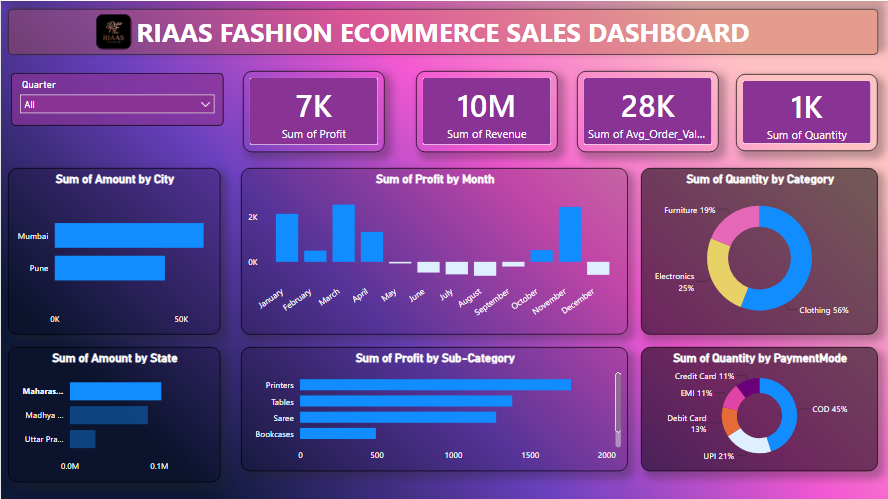

The page's visual inventory and layout, read from the dashboard file:
{"tool":"powerbi","page":{"name":"Page 1","canvas":[1280,720],"ordinal":0},"visuals":[{"type":"textbox","box":[10.1,11.5,1252.8,66.2],"z":0},{"type":"cardVisual","fields":{"Data":["Sum(Details.Quantity)"]},"box":[1058.8,104.4,204.5,110.9],"z":0,"group":"g1"},{"type":"cardVisual","fields":{"Data":["Sum(Details.Profit)"]},"box":[348.5,100.8,204.5,116.6],"z":1000,"group":"g1"},{"type":"columnChart","fields":{"Category":["Orders.Order Date.Variation.Date Hierarchy.Month"],"Y":["Sum(Details.Profit)"]},"box":[345.5,240.5,557.3,240.5],"z":1000,"group":"g2"},{"type":"cardVisual","fields":{"Data":["Sum(Details.Avg_Order_Value)"]},"box":[829.2,100.8,204.5,116.6],"z":2000,"group":"g1"},{"type":"barChart","fields":{"Category":["Details.Sub-Category"],"Y":["Sum(Details.Profit)"]},"box":[345.5,498.1,557.3,178.6],"z":2000,"group":"g3"},{"type":"cardVisual","fields":{"Data":["Sum(Details.Revenue)"]},"box":[597.3,100.8,204.5,116.6],"z":3000,"group":"g1"},{"type":"donutChart","fields":{"Category":["Details.Category"],"Y":["Sum(Details.Quantity)"]},"box":[921.5,240.5,341.3,240.5],"z":3000,"group":"g2"},{"type":"donutChart","fields":{"Y":["Sum(Details.Quantity)"],"Category":["Details.PaymentMode"]},"box":[921.5,498.1,341.3,178.6],"z":4000,"group":"g3"},{"type":"group","id":"g1","title":"Group 1","box":[348.5,100.8,914.4,116.6],"z":5000},{"type":"barChart","fields":{"Category":["Orders.City"],"Y":["Sum(Details.Amount)"]},"box":[10,240,305.7,240.2],"z":6000,"group":"g2"},{"type":"barChart","fields":{"Y":["Sum(Details.Amount)"],"Category":["Orders.State"]},"box":[10,498,305.7,194.9],"z":7000,"group":"g3"},{"type":"slicer","fields":{"Values":["Orders.Order Date.Variation.Date Hierarchy.Quarter"]},"box":[14,104,306,76],"z":8001},{"type":"group","id":"g2","title":"Group 2","box":[10,240,1252,240],"z":8002},{"type":"group","id":"g3","title":"Group 3","box":[10,498,1252,194],"z":8003},{"type":"image","box":[137.1,18.6,51.4,51.4],"z":8004}]}

Visuals, with their boxes in screenshot pixels (x1, y1, x2, y2), scaled from the page's 1280x720 canvas onto the 888x499 screenshot:
textbox: [7, 8, 876, 54]
cardVisual - Sum(Details.Quantity): [735, 72, 876, 149]
cardVisual - Sum(Details.Profit): [242, 70, 384, 151]
columnChart - Orders.Order Date.Variation.Date Hierarchy.Month x Sum(Details.Profit): [240, 167, 626, 333]
cardVisual - Sum(Details.Avg_Order_Value): [575, 70, 717, 151]
barChart - Details.Sub-Category x Sum(Details.Profit): [240, 345, 626, 469]
cardVisual - Sum(Details.Revenue): [414, 70, 556, 151]
donutChart - Details.Category x Sum(Details.Quantity): [639, 167, 876, 333]
donutChart - Sum(Details.Quantity) x Details.PaymentMode: [639, 345, 876, 469]
"Group 1" group: [242, 70, 876, 151]
barChart - Orders.City x Sum(Details.Amount): [7, 166, 219, 333]
barChart - Sum(Details.Amount) x Orders.State: [7, 345, 219, 480]
slicer - Orders.Order Date.Variation.Date Hierarchy.Quarter: [10, 72, 222, 125]
"Group 2" group: [7, 166, 876, 333]
"Group 3" group: [7, 345, 876, 480]
image: [95, 13, 131, 49]
